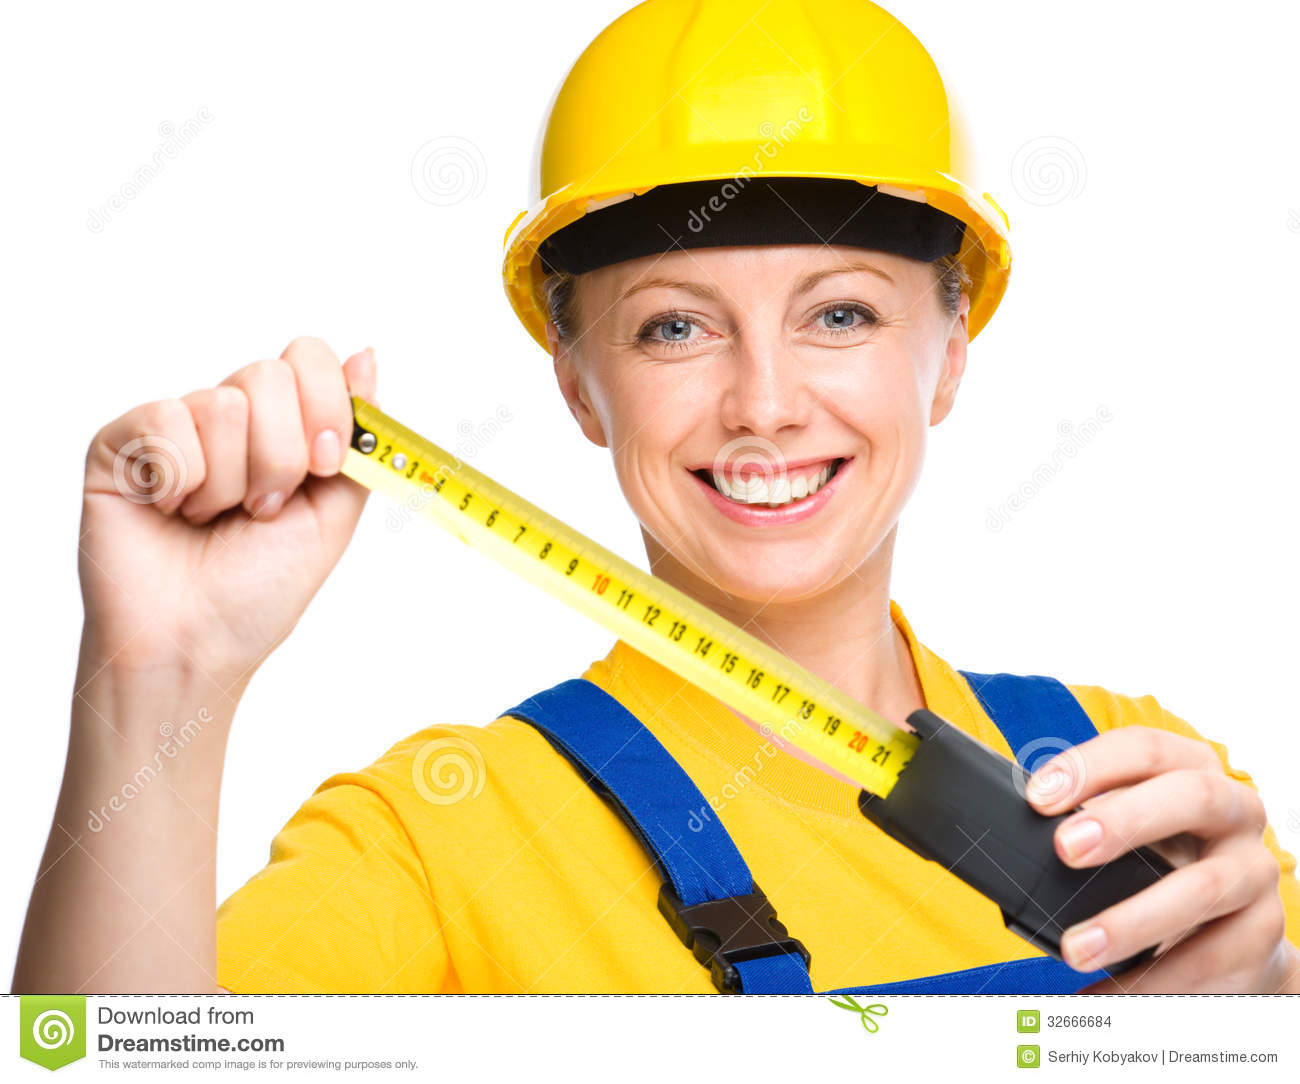safetyhat: (418, 5, 1220, 958)
